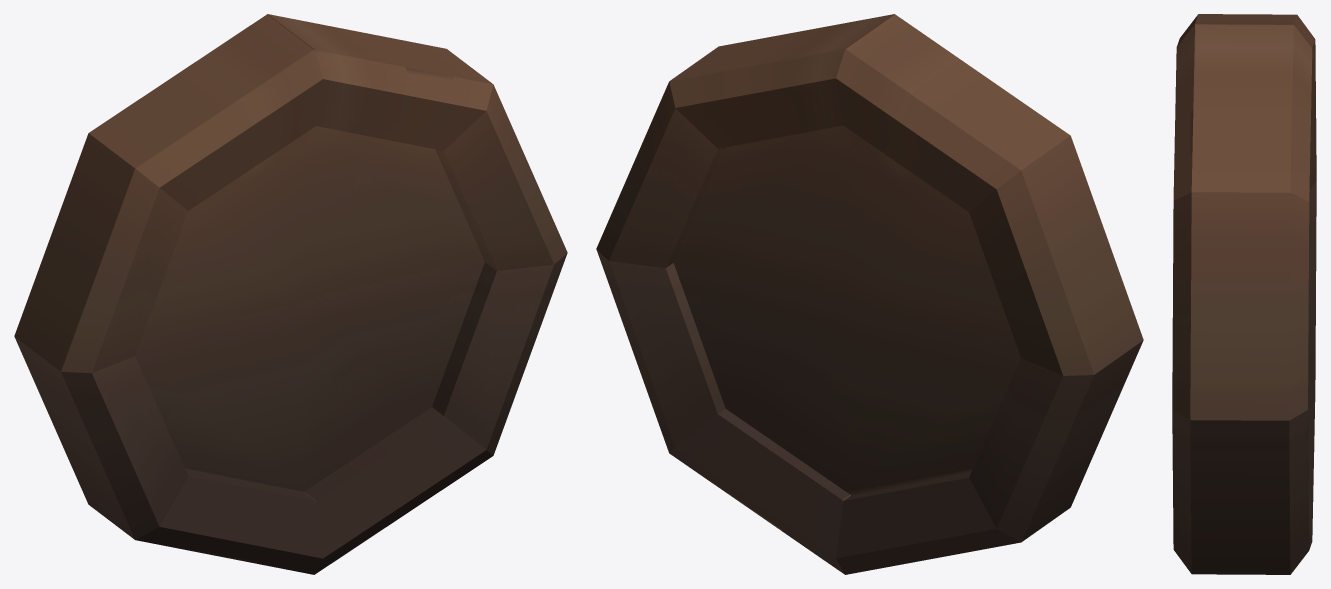
The model's file is Wheel.fbx.
The picture shows the model from 3 angles, left to right: view 1: azimuth 30°, elevation 25°; view 2: azimuth 150°, elevation 25°; view 3: azimuth 270°, elevation 25°; orthographic projection. The views are drawn at different scales.
Parts seen in each view (by area): view 1: Cube.008; view 2: Cube.008; view 3: Cube.008.
Part boxes in pixels (left/top/right/bottom): Cube.008: left=14, top=14, right=567, bottom=574; Cube.008: left=596, top=14, right=1143, bottom=574; Cube.008: left=1172, top=14, right=1316, bottom=574.
Size of the model in its own units: 131 by 131 by 31.74.
